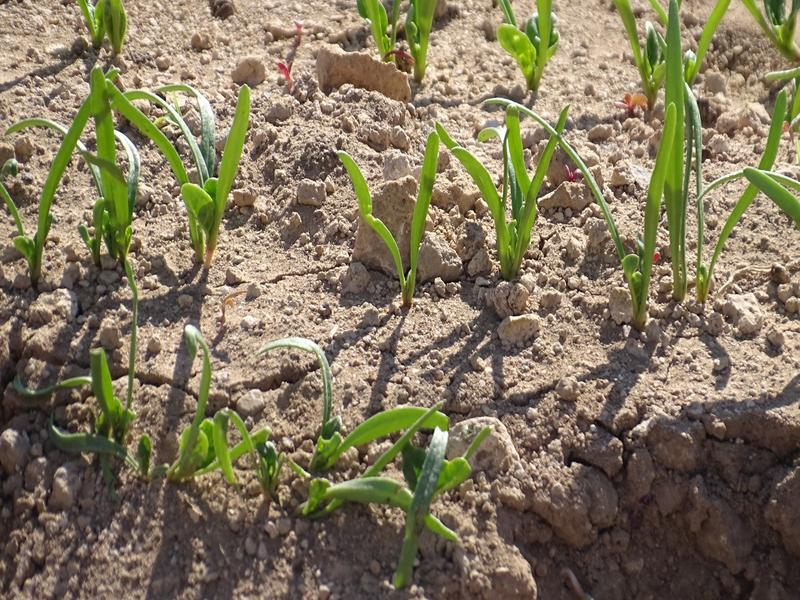Espinaca: (266, 339, 486, 575), (322, 96, 568, 295), (26, 68, 245, 259), (586, 130, 790, 322), (28, 318, 146, 464), (176, 332, 259, 484), (619, 5, 713, 87), (748, 6, 799, 123), (365, 1, 438, 82), (497, 3, 555, 82), (77, 1, 131, 53)
